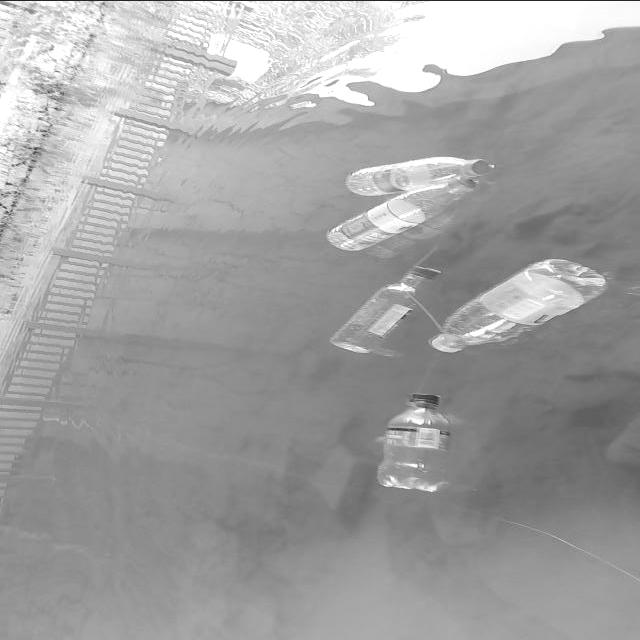bottle: (426, 250, 612, 355), (322, 167, 481, 255), (326, 261, 440, 356), (374, 384, 456, 494), (338, 149, 506, 196)
